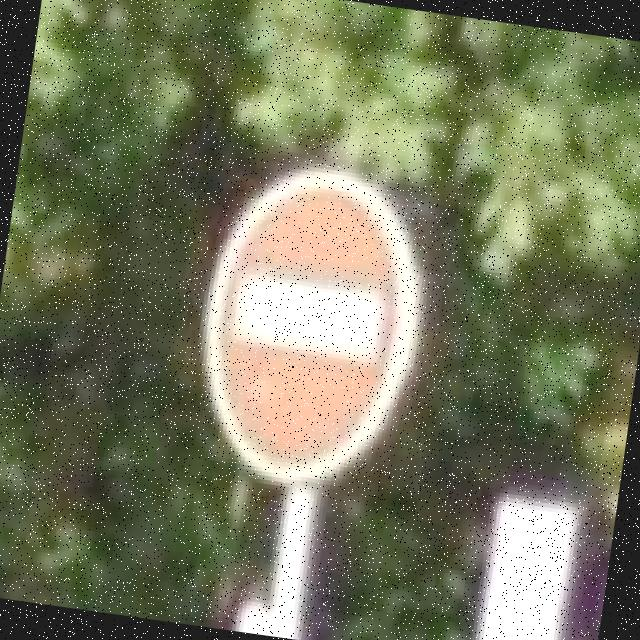Zakaz wjazdu: (180, 155, 442, 503)
